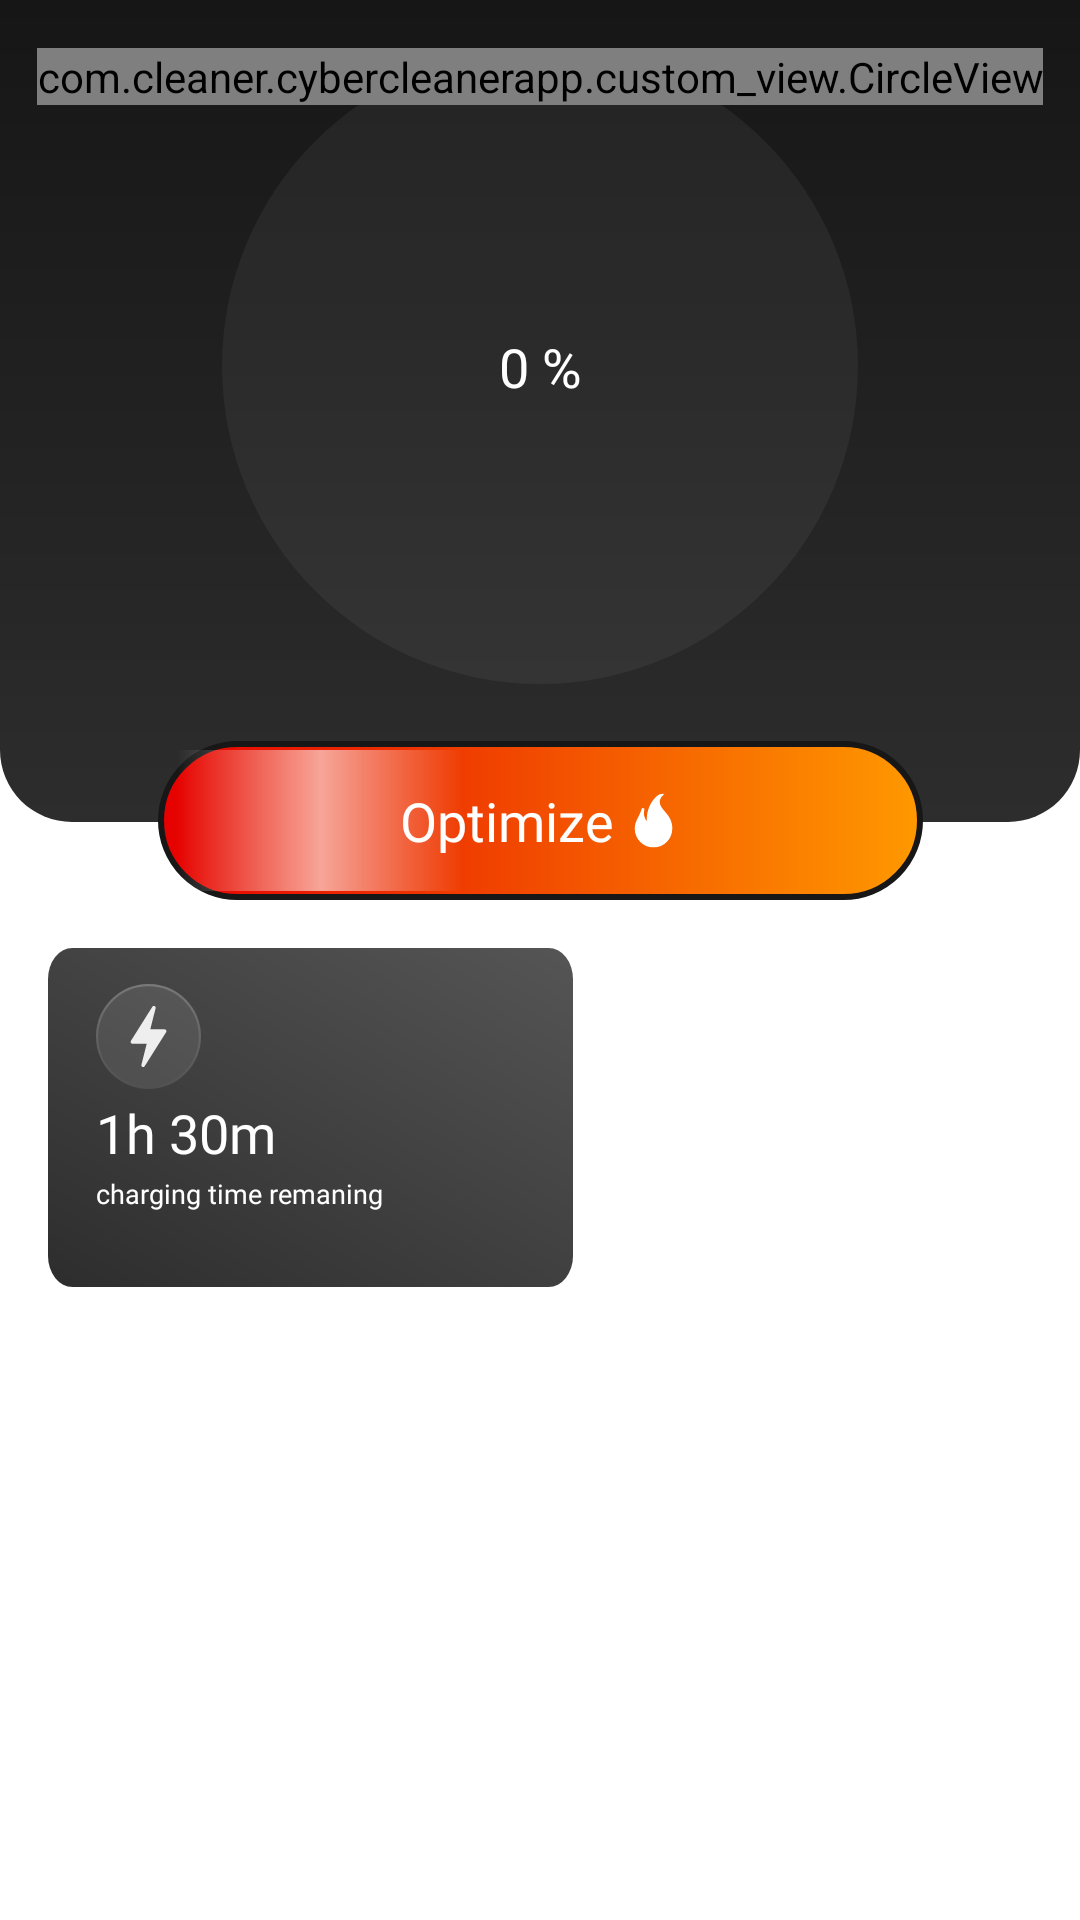

Screen size 1080 x 1920. Icon name, then its box in pixels as BBox(x1, y1, x2, y2):
fire: BBox(634, 793, 673, 848)
